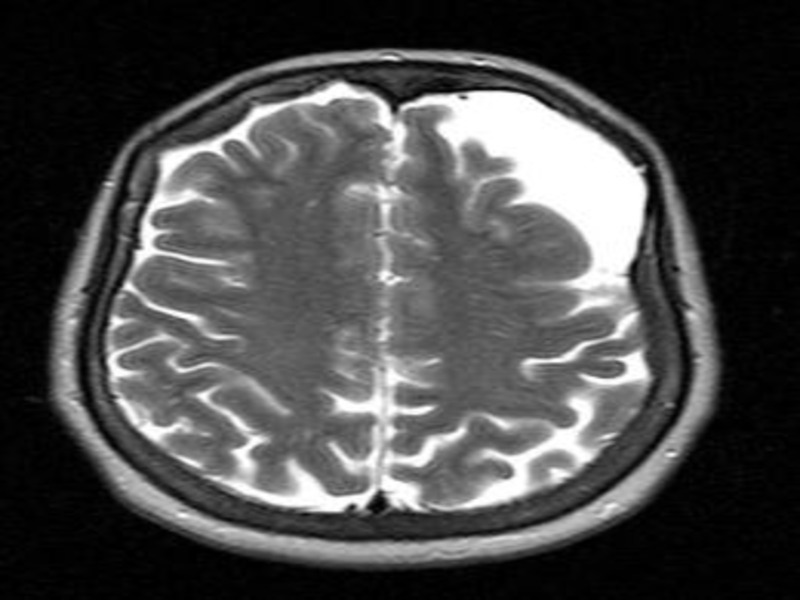tumor: (432, 106, 563, 271)
